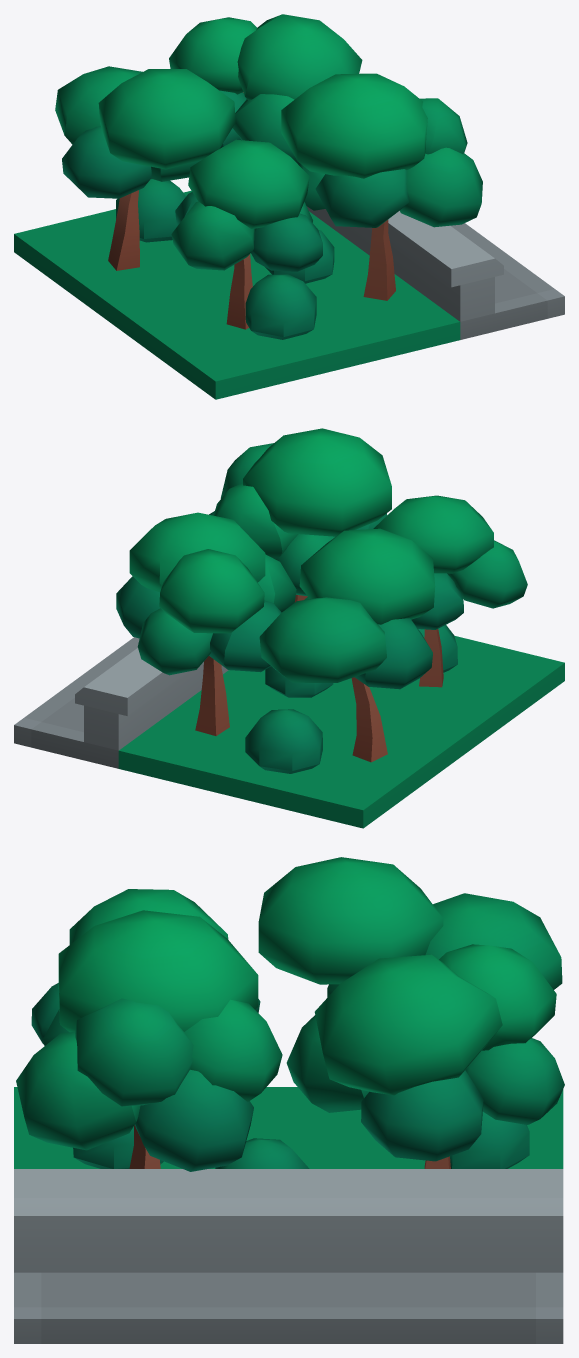
Rendered from park_wall_straight_decorated.glb.
3 views of the same model, one above another, from view 1: azimuth 30°, elevation 25°; view 2: azimuth 150°, elevation 25°; view 3: azimuth 270°, elevation 25° (orthographic). The views are drawn at different scales.
Visible parts, largest first — view 1: park_wall_straight_decorated; view 2: park_wall_straight_decorated; view 3: park_wall_straight_decorated.
Boxes of the visible parts, x1,y1,x2,y2 form: park_wall_straight_decorated: (14,14,564,399); park_wall_straight_decorated: (14,428,564,828); park_wall_straight_decorated: (14,857,564,1343).
Size of the model in its own units: 2.01 by 1.28 by 2.01.
1 material, 1 textured.
